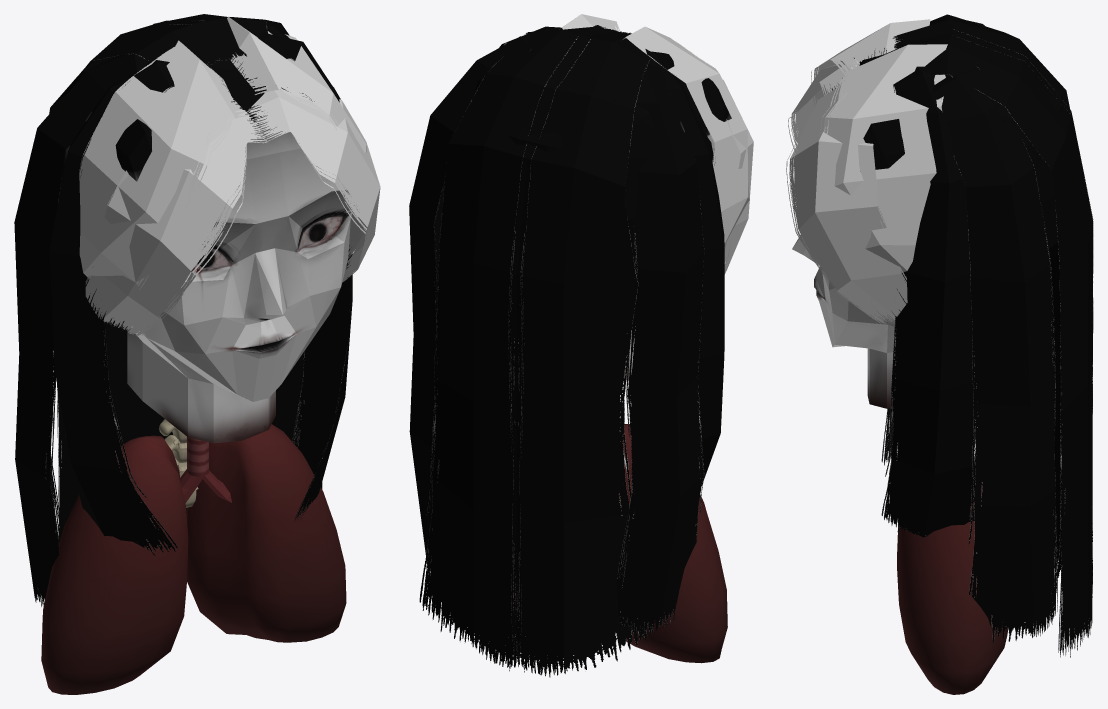
File: PenanggalV2.fbx
3 views of the same model, side by side, from view 1: azimuth 30°, elevation 25°; view 2: azimuth 150°, elevation 25°; view 3: azimuth 270°, elevation 25° (orthographic). The views are drawn at different scales.
Visible parts, largest first — view 1: face, LungRight, LungLeft, HairbackRight2, HairSideLeft, HairFrontLeft2, HairFrontLeft1, HairFrontRight1, HairSideRight, HairbackRight1, HairFrontRight2, HairBackLeft1 (+2 smaller); view 2: HairbackRight1, HairBackLeft1, HairbackRight2, HairBackLeft2, HairSideLeft, LungLeft, HairFrontLeft2, face, HairFrontLeft1, HairFrontRight2; view 3: HairBackLeft2, HairSideRight, HairBackLeft1, HairFrontRight1, HairFrontRight2, LungRight, face, HairbackRight1, HairFrontLeft2, HairFrontLeft1.
Boxes of the visible parts, <box> form: face: <box>60,48,354,443</box>; LungRight: <box>186,424,346,642</box>; LungLeft: <box>41,435,188,694</box>; HairbackRight2: <box>14,53,148,606</box>; HairSideLeft: <box>49,60,209,555</box>; HairFrontLeft2: <box>79,40,247,289</box>; HairFrontLeft1: <box>85,108,267,336</box>; HairFrontRight1: <box>247,86,380,282</box>; HairSideRight: <box>258,32,352,521</box>; HairbackRight1: <box>49,20,230,544</box>; HairFrontRight2: <box>227,16,367,252</box>; HairBackLeft1: <box>123,14,268,513</box>; HairbackRight1: <box>508,30,651,677</box>; HairBackLeft1: <box>419,25,615,671</box>; HairbackRight2: <box>617,63,704,633</box>; HairBackLeft2: <box>409,36,531,570</box>; HairSideLeft: <box>640,49,724,485</box>; LungLeft: <box>619,424,727,663</box>; HairFrontLeft2: <box>622,26,749,250</box>; face: <box>475,75,731,380</box>; HairFrontLeft1: <box>722,79,753,274</box>; HairFrontRight2: <box>504,14,620,44</box>; HairBackLeft2: <box>931,67,1057,642</box>; HairSideRight: <box>881,66,978,537</box>; HairBackLeft1: <box>894,29,1093,657</box>; HairFrontRight1: <box>786,85,907,324</box>; HairFrontRight2: <box>820,44,947,272</box>; LungRight: <box>897,481,1008,694</box>; face: <box>792,33,1062,408</box>; HairbackRight1: <box>892,14,1093,592</box>; HairFrontLeft2: <box>811,19,930,107</box>; HairFrontLeft1: <box>788,59,859,150</box>.
Size of the model in its own units: 191 by 396 by 182.
